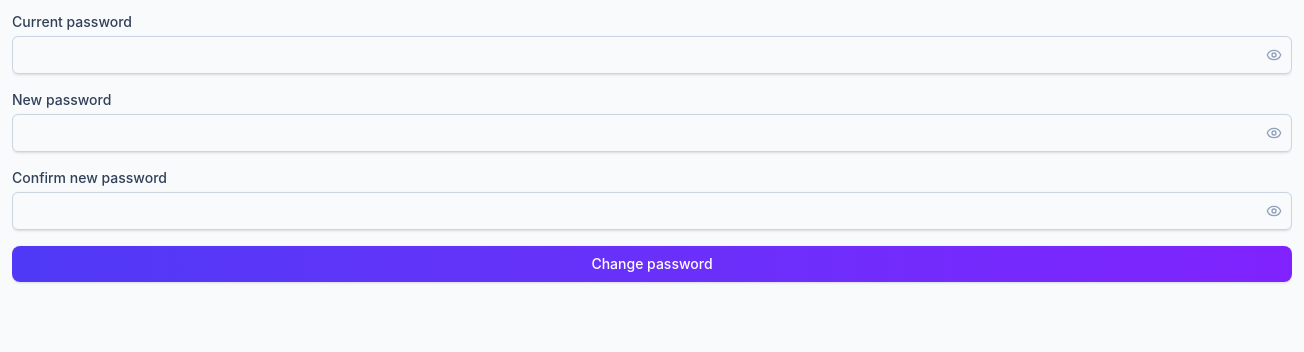
Test: ChangePasswordForm › blocks submission when the new password and confirmation don't match
Step 1. Type "OldPassword1!" into the password field labelled "Current password" → [652, 55], box [12,36,1292,74]
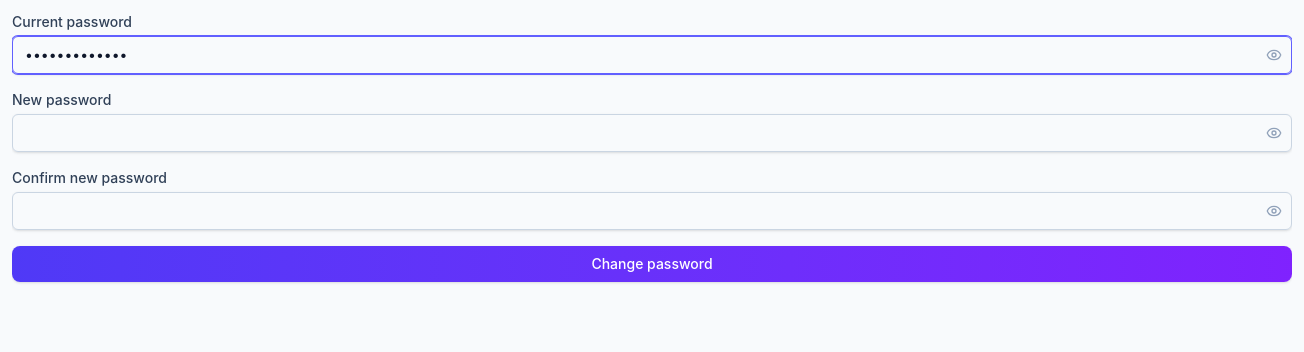
Step 2. Type "NewPassword1!" into the password field labelled "New password" → [652, 133], box [12,114,1292,152]
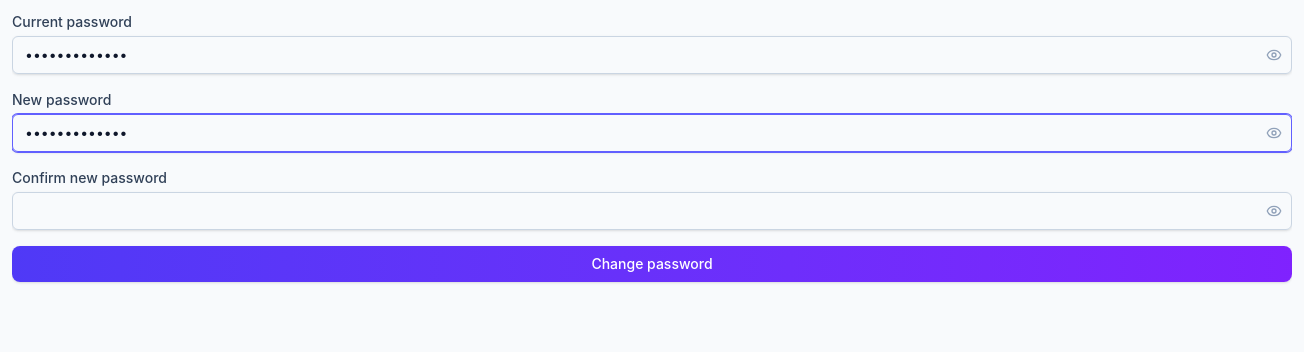
Step 3. Type "Mismatch1!" into the password field labelled "Confirm new password" → [652, 211], box [12,192,1292,230]
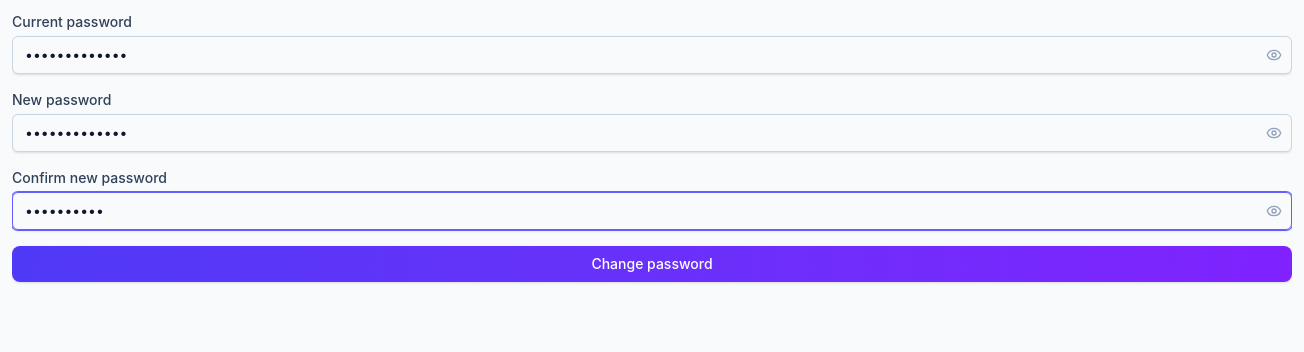
Step 4. Click the button "Change password" → [652, 264], box [12,246,1292,282]
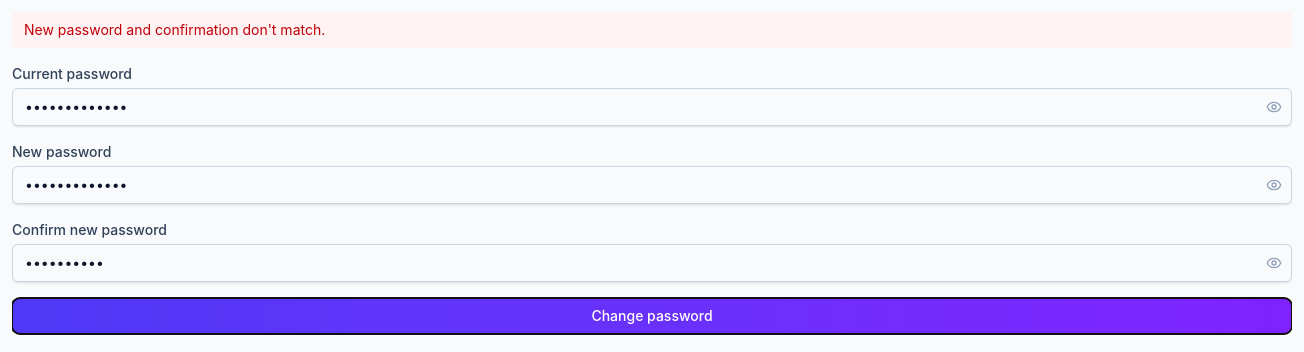
Expected: the message shows "don't match", [24,21,325,38]
